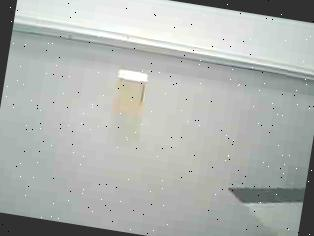Bottle B: (102, 64, 160, 122)
